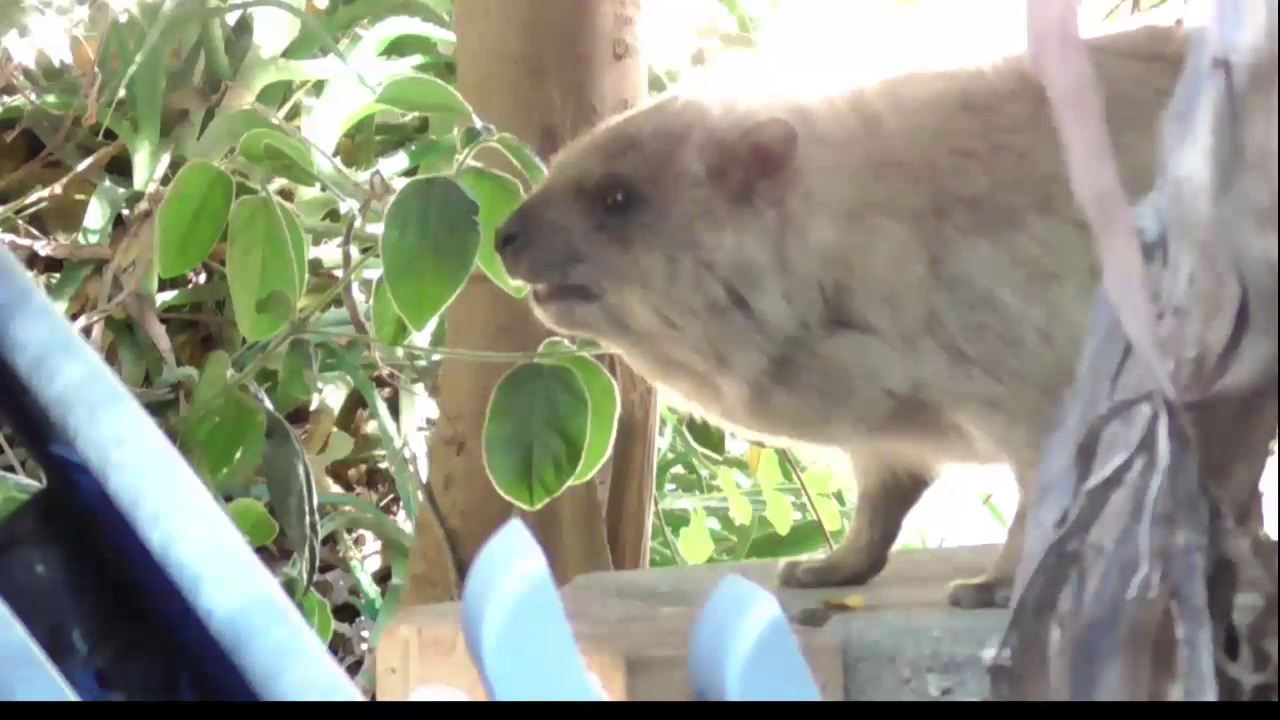Rock Hyrex: (492, 20, 1197, 626)
